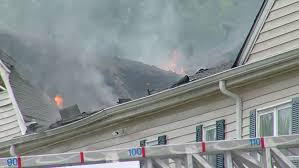smoke: (2, 5, 246, 52), (30, 54, 192, 85)
